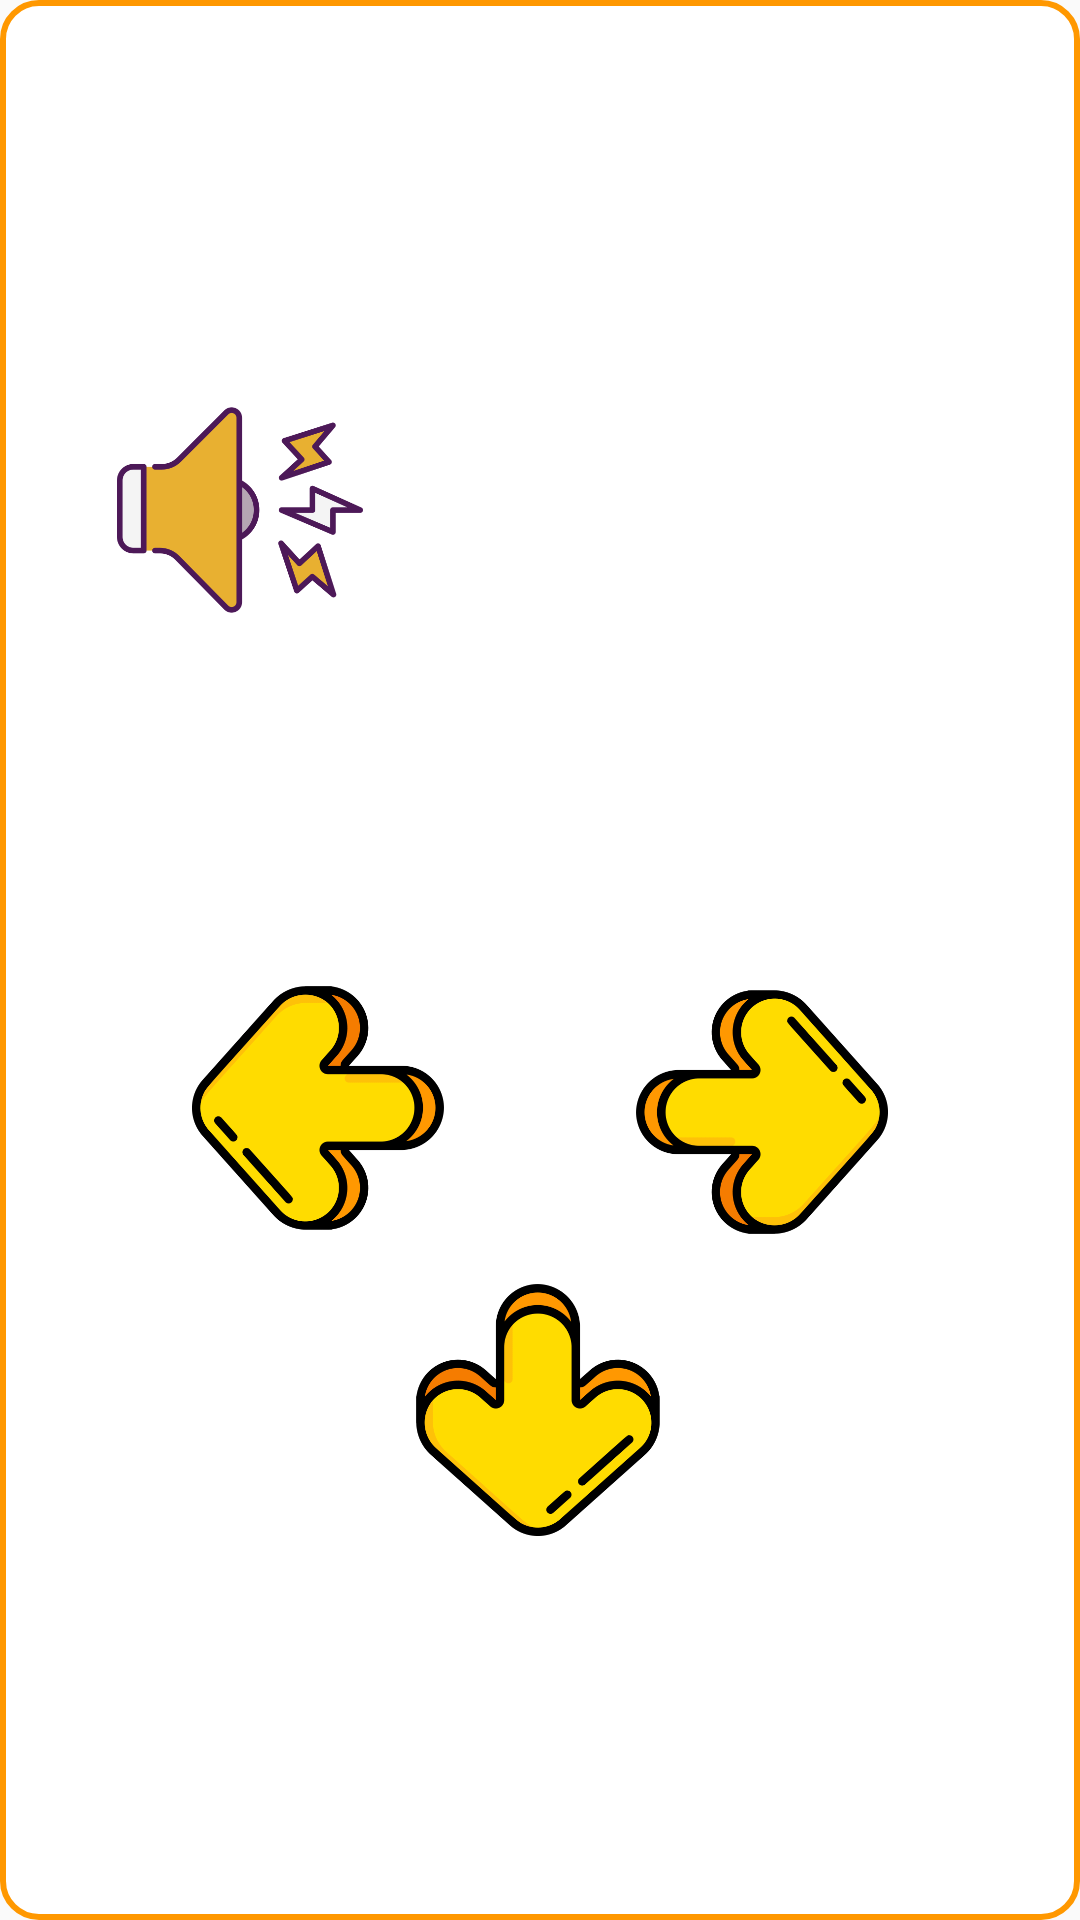

Named icons in this screenshot (1080×1920) and their centers, [x,y]:
arrow left: [318,1108]
arrow right: [762,1112]
Bas: [538,1410]
horn car: [240,510]
